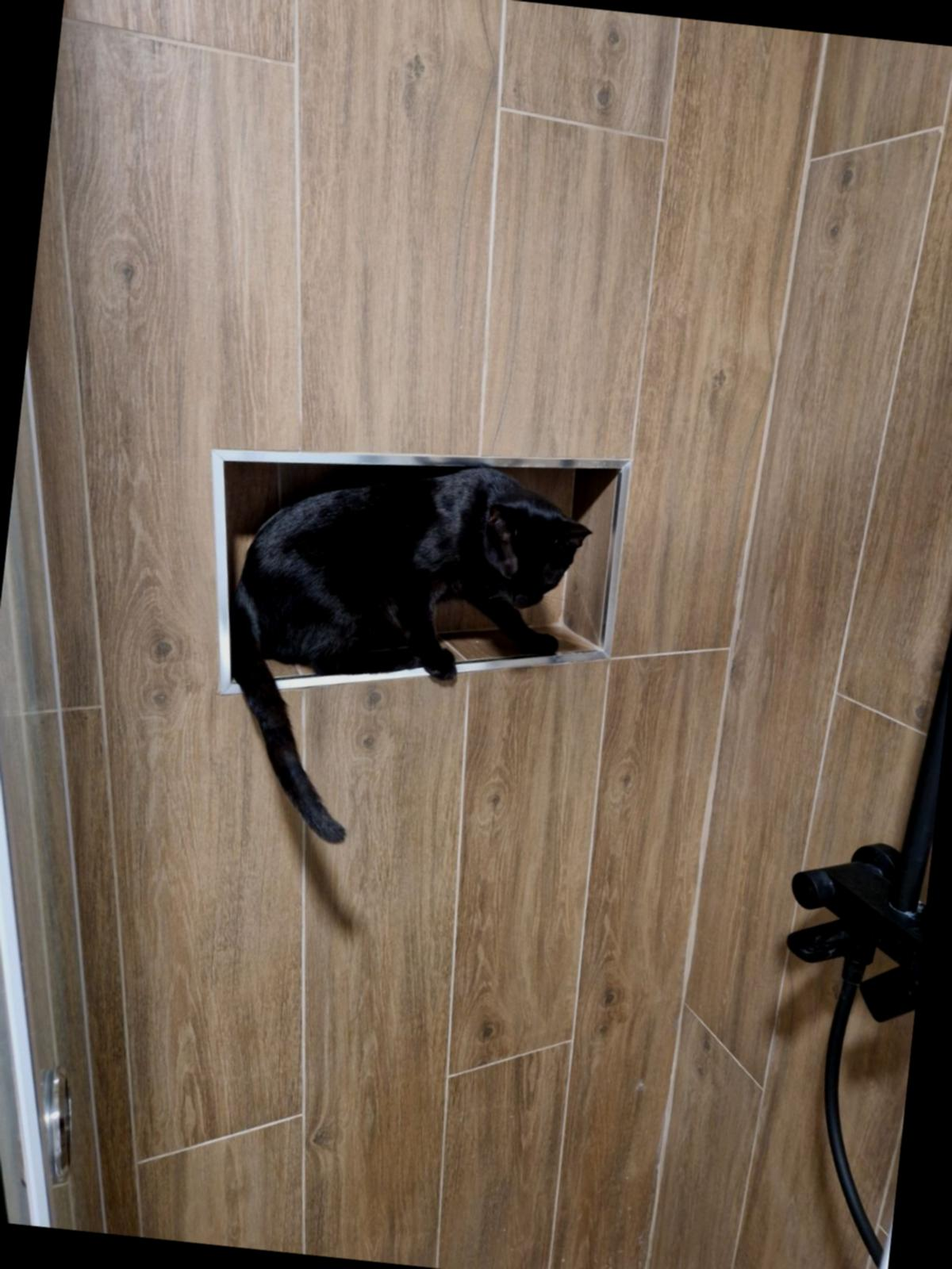macka: (197, 432, 603, 872)
